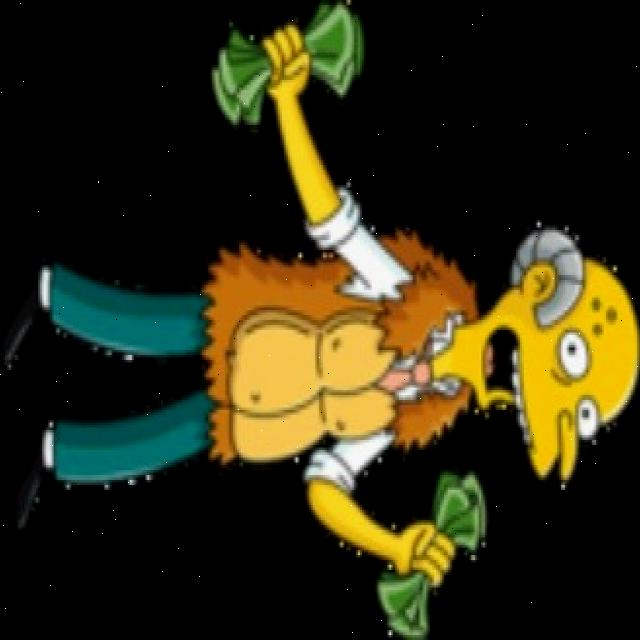Charles Montgomery Burns: (441, 222, 640, 492)
